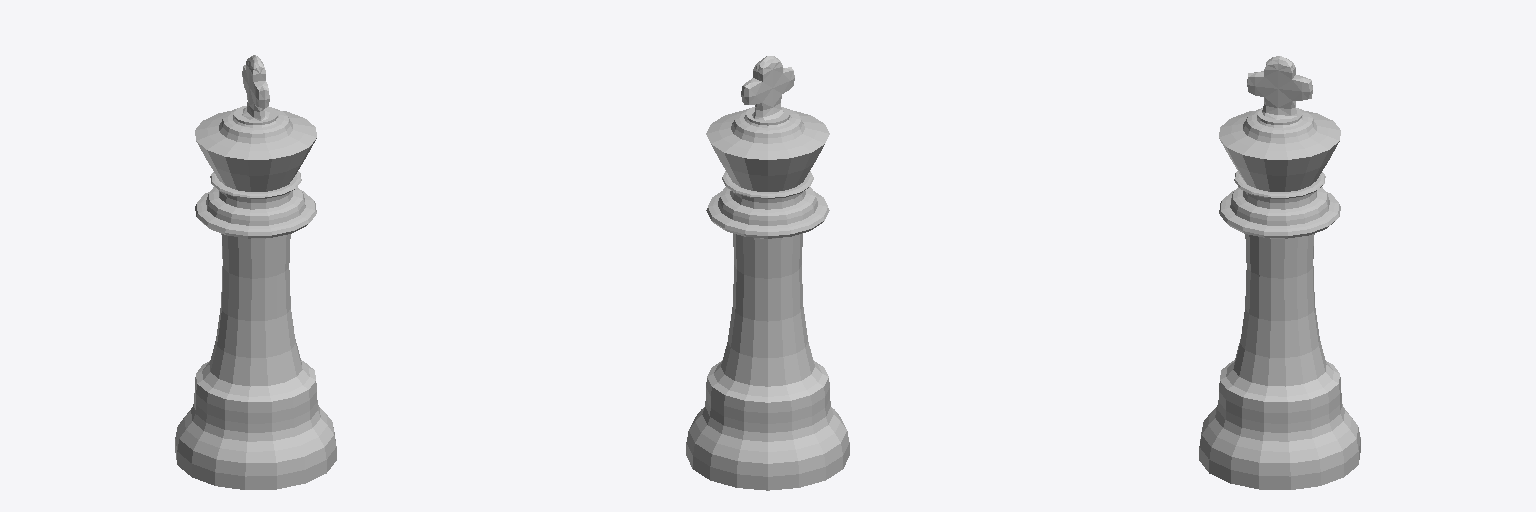
Rendered from king.obj.
The picture shows the model from 3 angles: view 1: azimuth 30°, elevation 25°; view 2: azimuth 150°, elevation 25°; view 3: azimuth 270°, elevation 25°; orthographic projection.
Visible parts, largest first — view 1: King_Circle.004; view 2: King_Circle.004; view 3: King_Circle.004.
Part boxes in pixels (x1,y1,x2,y2): King_Circle.004: (175, 55, 336, 489); King_Circle.004: (686, 56, 849, 490); King_Circle.004: (1199, 56, 1360, 489).
Size of the model in its own units: 2.95 by 8.1 by 2.95.